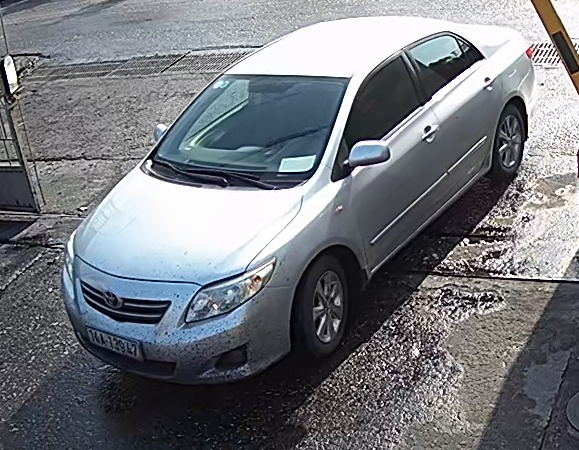vehicle plate: (82, 322, 148, 362)
